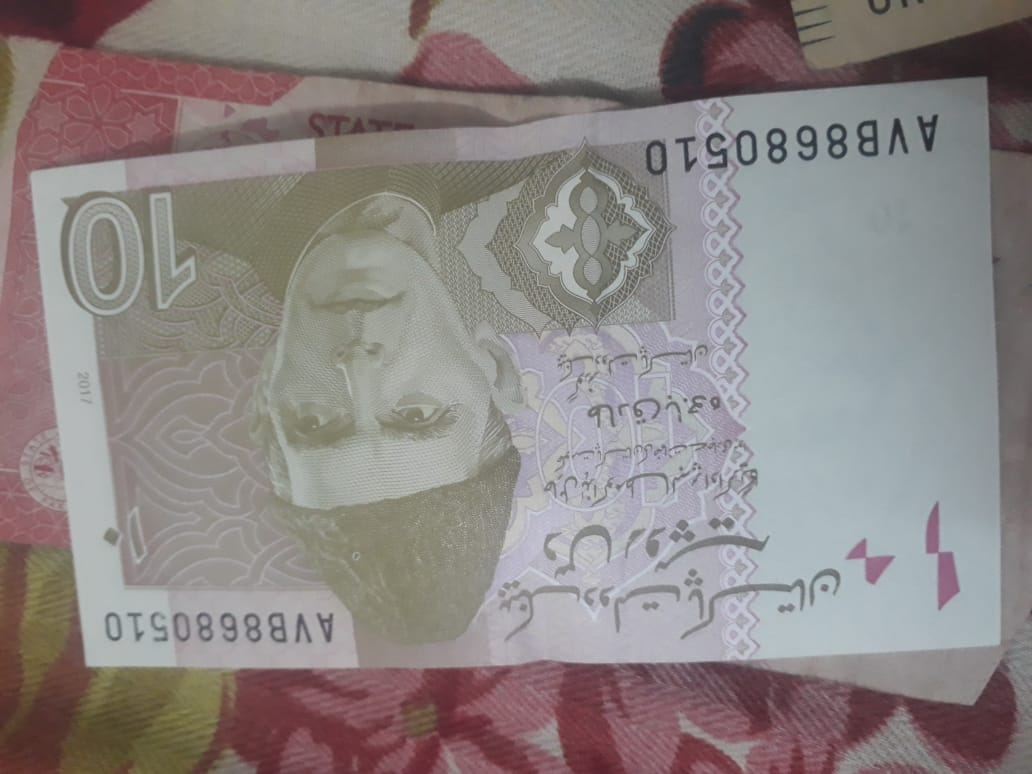10 rupee: (24, 97, 1032, 657)
